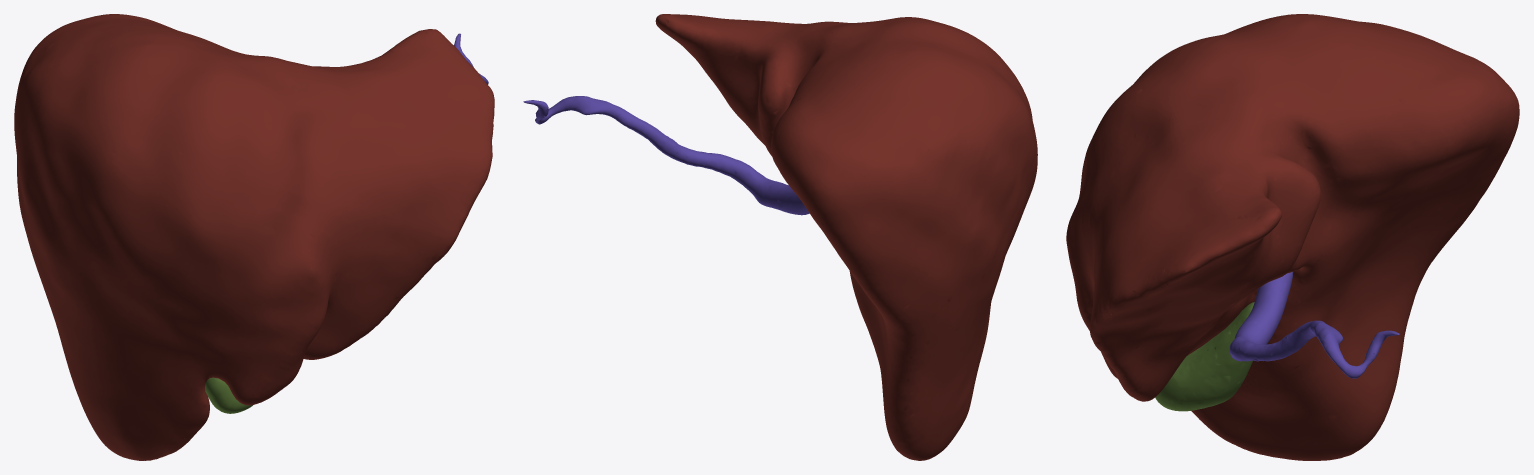
The model's file is s1045_liver.glb.
3 renders of one model, left to right at view 1: azimuth 30°, elevation 25°; view 2: azimuth 150°, elevation 25°; view 3: azimuth 270°, elevation 25°, orthographic. The views are drawn at different scales.
Parts seen in each view (by area): view 1: liver, gallbladder; view 2: liver, portal_vein_and_splenic_vein; view 3: liver, portal_vein_and_splenic_vein, gallbladder.
Part boxes in pixels (x1,y1,x2,y2): liver: (14,14,494,460); gallbladder: (205,377,252,413); liver: (655,14,1037,460); portal_vein_and_splenic_vein: (523,96,809,215); liver: (1066,14,1519,460); portal_vein_and_splenic_vein: (1229,271,1399,378); gallbladder: (1155,302,1254,411).
Size of the model in its own units: 0.239 by 0.2021 by 0.1846.
